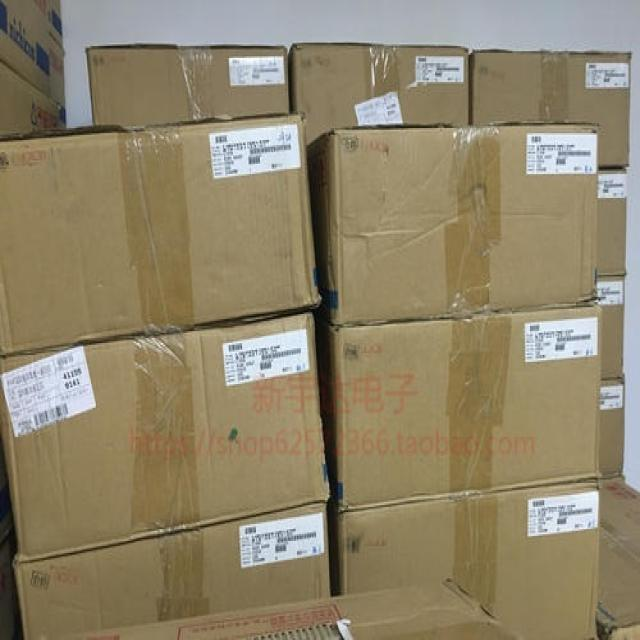box: (0, 309, 330, 561), (0, 113, 323, 358), (307, 119, 600, 324), (311, 305, 603, 510), (13, 502, 332, 640), (326, 480, 600, 640), (22, 580, 515, 640), (467, 49, 631, 171), (287, 41, 468, 145), (87, 44, 291, 126), (598, 476, 640, 638), (0, 60, 67, 133), (0, 437, 22, 640), (596, 169, 627, 276), (595, 275, 625, 381), (602, 381, 626, 476)
